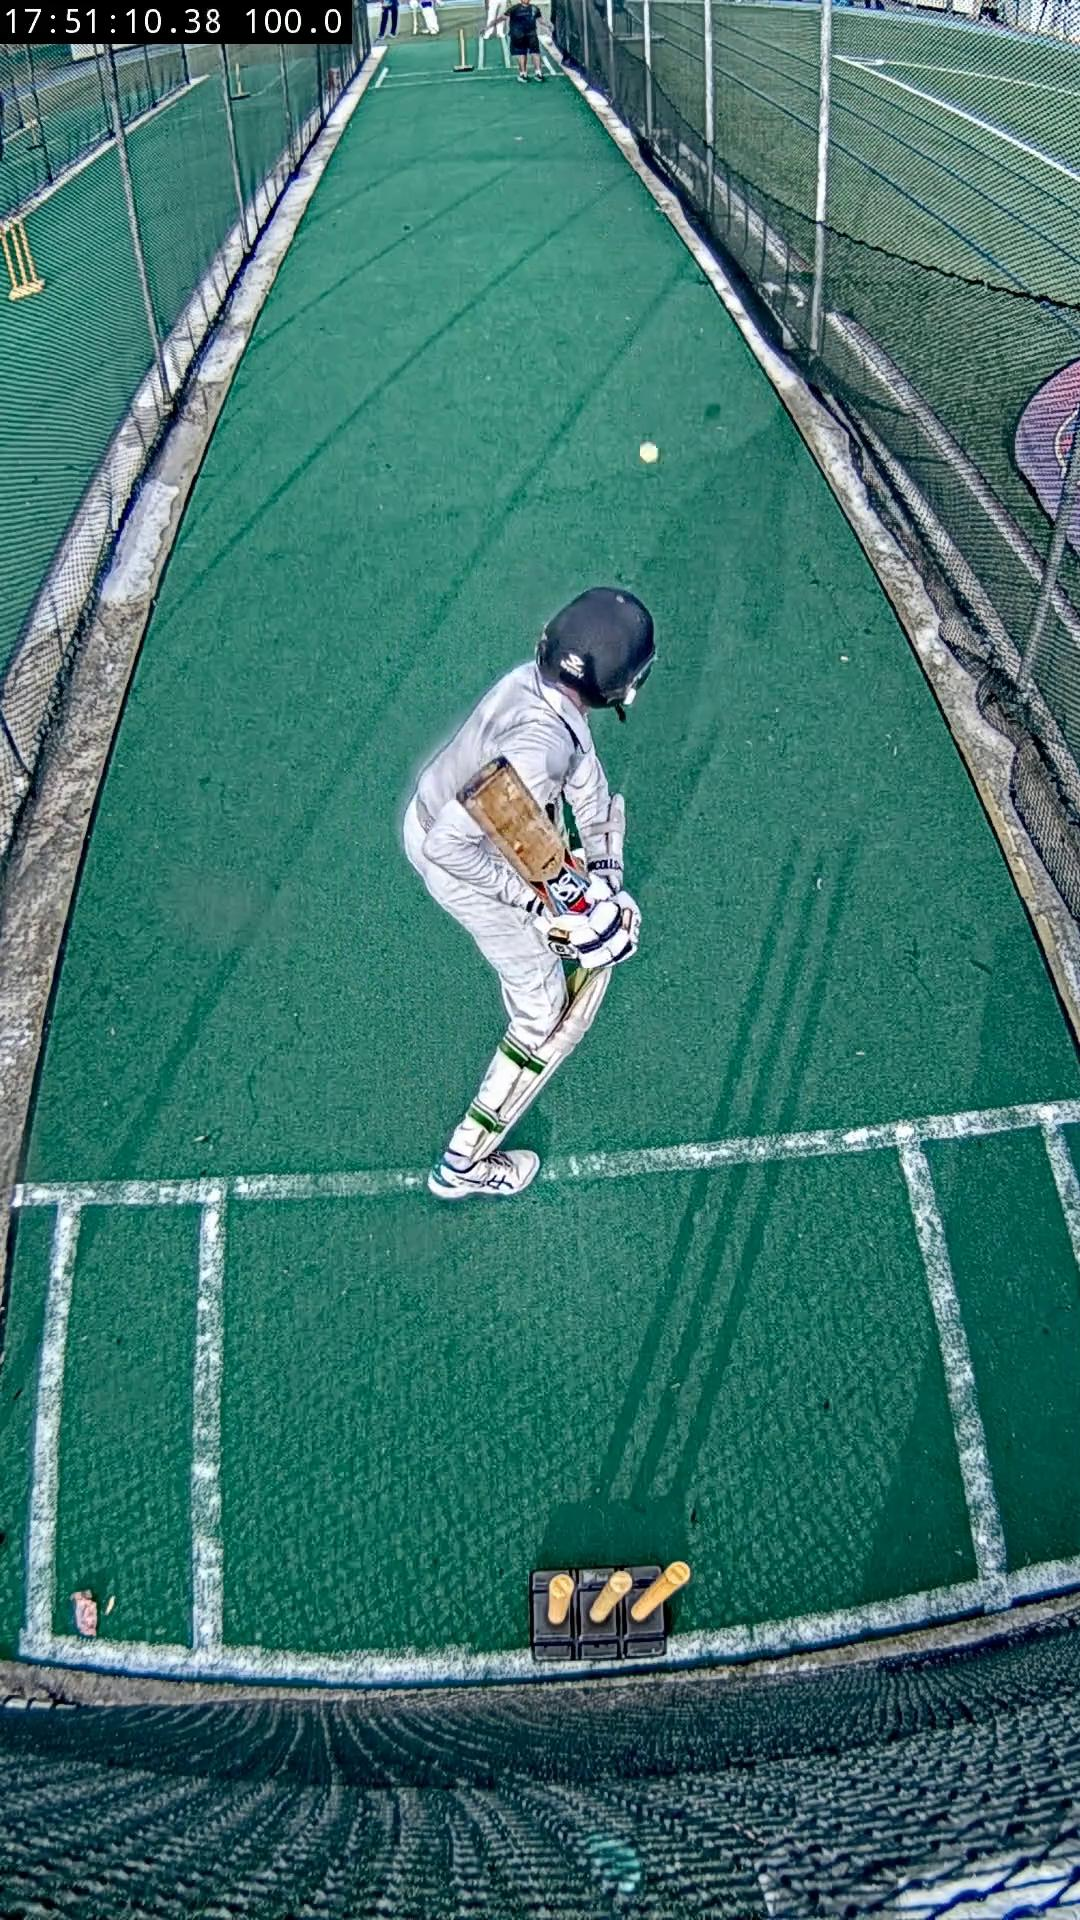ball: (637, 443, 661, 462)
bat: (458, 757, 592, 915)
gloves: (537, 874, 641, 972)
helmet: (537, 585, 657, 708)
pads: (480, 968, 612, 1156)
stumps: (529, 1564, 690, 1662)
